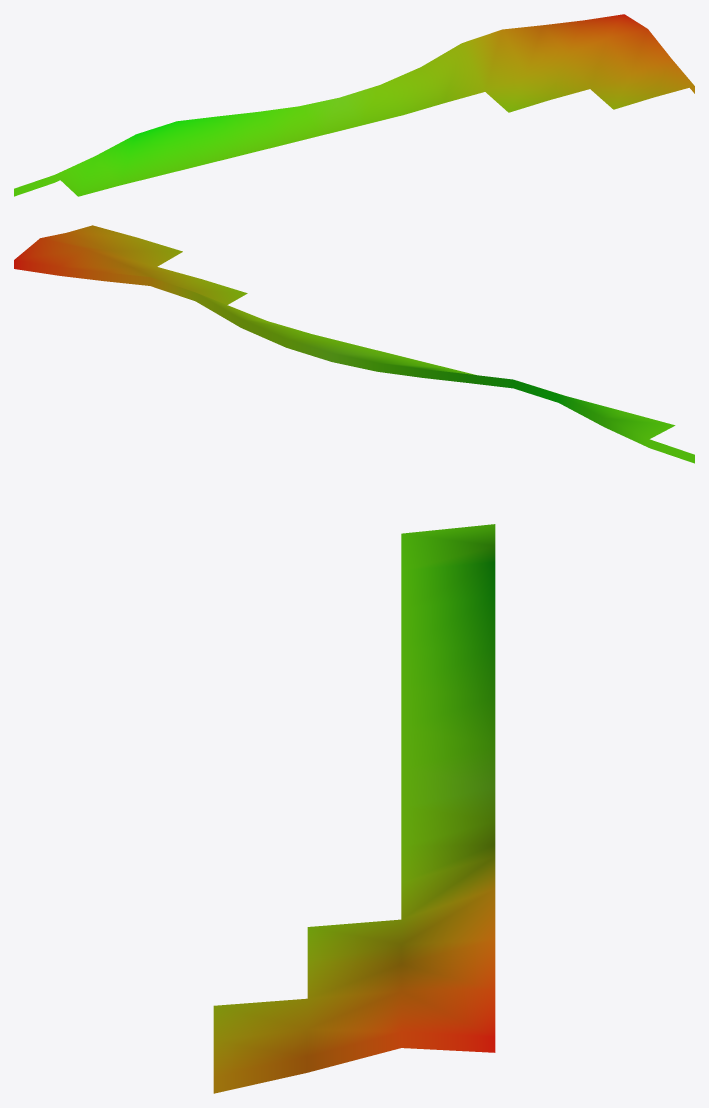
The model's file is coast_8_9.glb.
3 renders of one model, top to bottom at view 1: azimuth 30°, elevation 25°; view 2: azimuth 150°, elevation 25°; view 3: azimuth 270°, elevation 25°, orthographic. The views are drawn at different scales.
Parts seen in each view (by area): view 1: terrain; view 2: terrain; view 3: terrain.
Part boxes in pixels (x1,y1,x2,y2): terrain: [14, 14, 694, 196]; terrain: [14, 225, 694, 463]; terrain: [213, 524, 495, 1093].
Bounding box in the file's own units: 120 × 9.02 × 24.
